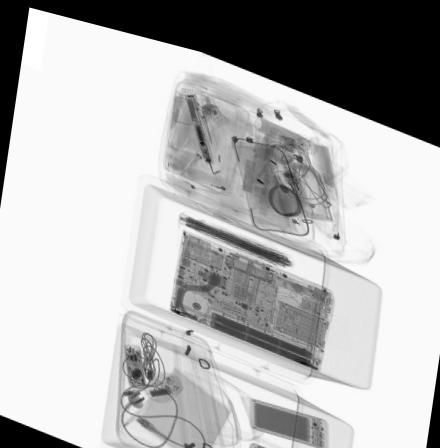Powerbank: (250, 383, 329, 434)
